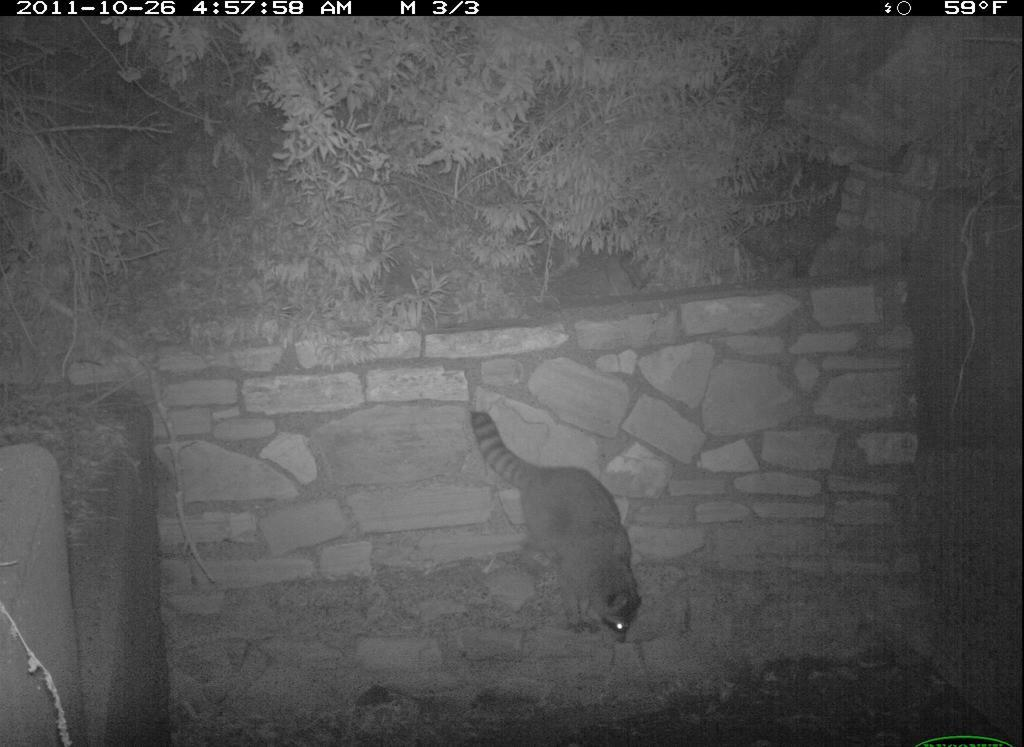raccoon: (460, 397, 650, 653)
